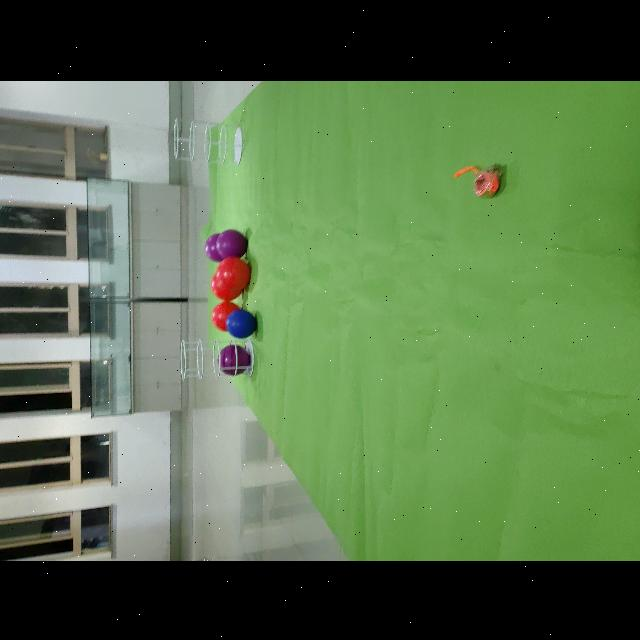B: (218, 256, 252, 290), (210, 300, 240, 332), (212, 271, 244, 301)
P: (227, 308, 257, 338)
R: (218, 345, 250, 377), (216, 228, 248, 256), (204, 232, 226, 262)
S: (172, 116, 244, 166), (180, 337, 254, 381)
